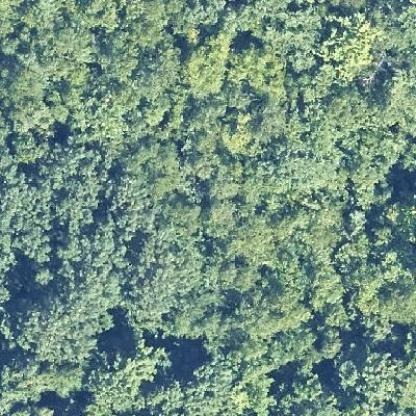tree-top: (77, 340, 175, 412), (316, 6, 385, 86), (185, 26, 237, 99), (350, 346, 402, 404), (93, 29, 146, 81), (192, 197, 248, 241), (242, 92, 289, 140), (9, 127, 48, 171), (288, 361, 330, 401), (30, 260, 57, 291)
